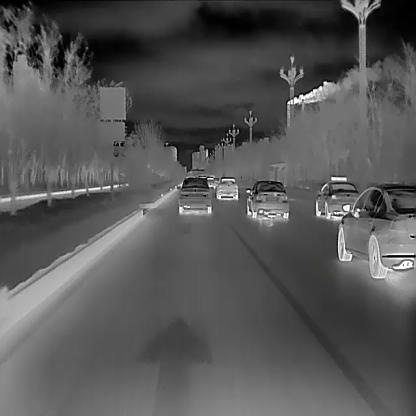car: (336, 183, 414, 279), (315, 175, 356, 220), (246, 179, 289, 220), (178, 178, 212, 214), (215, 176, 237, 200)
